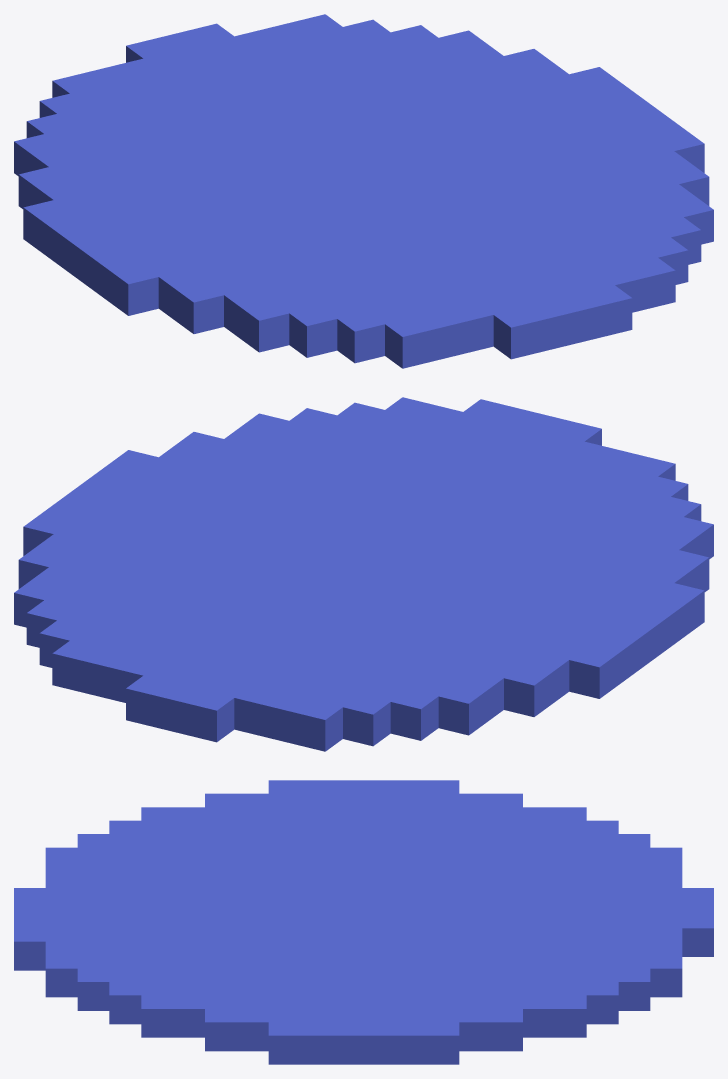
Rendered from water_surface.obj.
3 views of the same model, one above another, from view 1: azimuth 30°, elevation 25°; view 2: azimuth 150°, elevation 25°; view 3: azimuth 270°, elevation 25° (orthographic). The views are drawn at different scales.
Size of the model in its own units: 1.9 by 0.1 by 2.2.
Materials: 1 (1 with a texture image).
